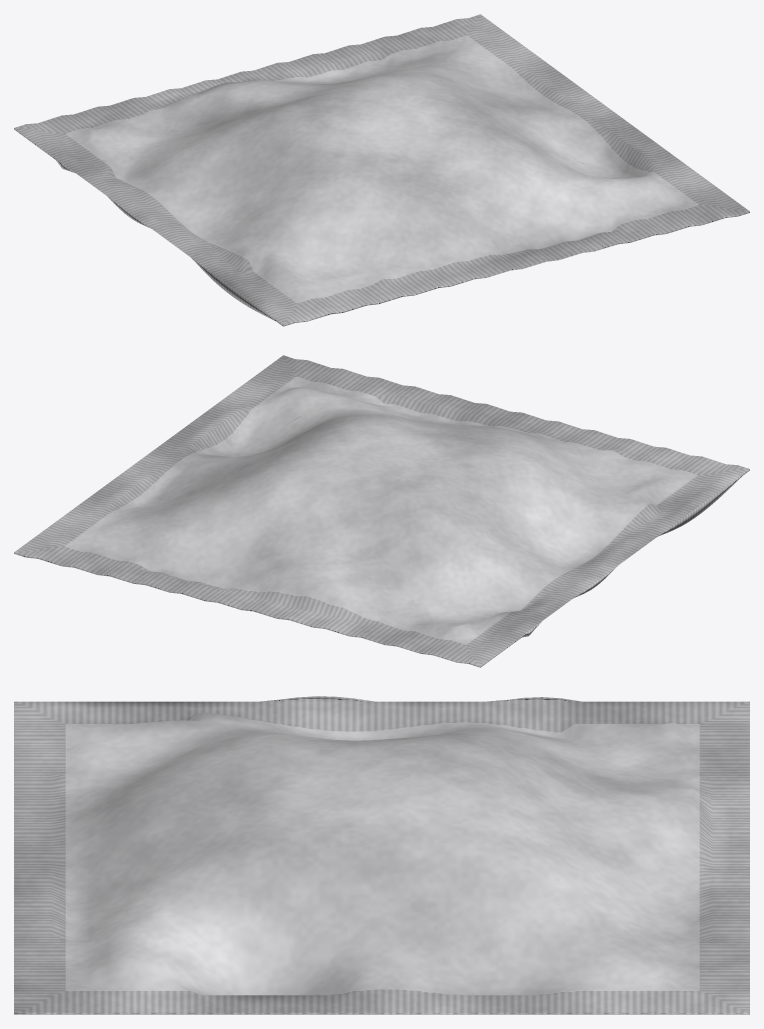
File: 07_Space_Beef_Jerky.glb
The picture shows the model from 3 angles, top to bottom: view 1: azimuth 30°, elevation 25°; view 2: azimuth 150°, elevation 25°; view 3: azimuth 270°, elevation 25°; orthographic projection. The views are drawn at different scales.
Parts seen in each view (by area): view 1: Foil_Pouch; view 2: Foil_Pouch; view 3: Foil_Pouch.
Part boxes in pixels (bbox=[...]): Foil_Pouch: bbox=[14, 14, 749, 326]; Foil_Pouch: bbox=[14, 355, 749, 667]; Foil_Pouch: bbox=[14, 696, 749, 1014].
Size of the model in its own units: 0.13 by 0.0277 by 0.13.
1 material, 1 textured.
